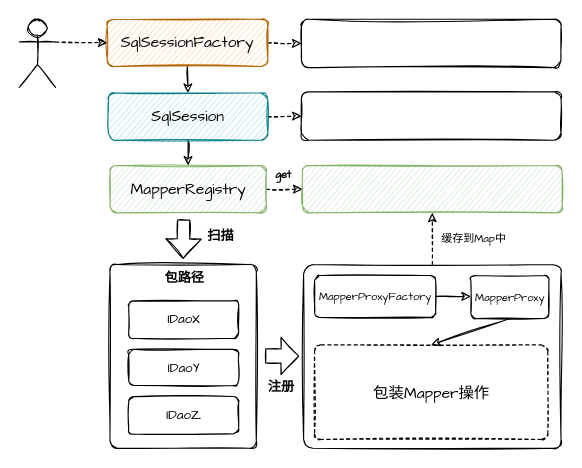
Some shapes in this 582 by 468 pixel diagram are drawn without their labels. Each missing label, with the centre of its shape:
"< T > T selectOne(String statement); < T > T getMapper(Class< T > type);" belongs at pixel 430 115.
"Actor" belongs at pixel 37 52.
"Map<Class<?>, MapperProxyFactory<?>>" belongs at pixel 431 188.
"openSession()" belongs at pixel 430 43.
